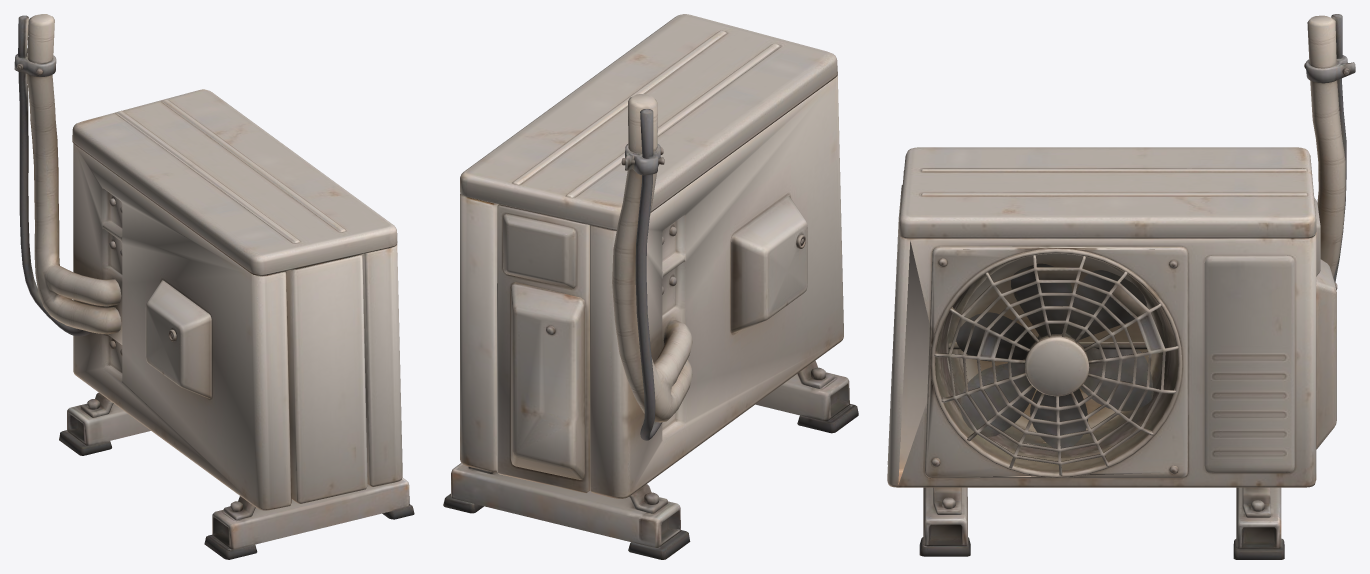
The model's file is ac_unit.glb.
3 views of the same model, side by side, from view 1: azimuth 30°, elevation 25°; view 2: azimuth 150°, elevation 25°; view 3: azimuth 270°, elevation 25° (orthographic). The views are drawn at different scales.
Parts seen in each view (by area): view 1: tripo_node_e073b0b6-4202-49c6-b496-fb8a54972f74; view 2: tripo_node_e073b0b6-4202-49c6-b496-fb8a54972f74; view 3: tripo_node_e073b0b6-4202-49c6-b496-fb8a54972f74.
Boxes of the visible parts, x1,y1,x2,y2 form: tripo_node_e073b0b6-4202-49c6-b496-fb8a54972f74: (14, 14, 414, 559); tripo_node_e073b0b6-4202-49c6-b496-fb8a54972f74: (443, 14, 858, 559); tripo_node_e073b0b6-4202-49c6-b496-fb8a54972f74: (887, 14, 1355, 559).
Bounding box in the file's own units: 0.5405 × 0.9995 × 0.9604.
1 material, 1 textured.
